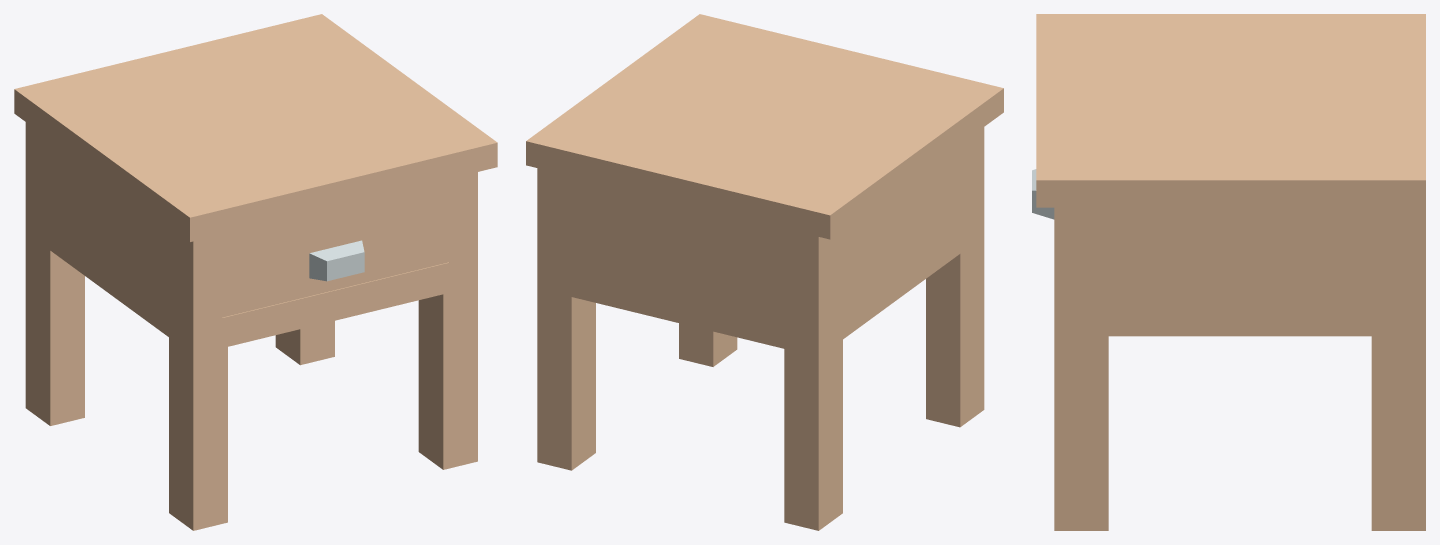
File: kn-cabinet-bed-drawer-table.glb
The picture shows the model from 3 angles, left to right: view 1: azimuth 30°, elevation 25°; view 2: azimuth 150°, elevation 25°; view 3: azimuth 270°, elevation 25°; orthographic projection. The views are drawn at different scales.
Parts seen in each view (by area): view 1: cabinetBedDrawerTable(Clone), drawer; view 2: cabinetBedDrawerTable(Clone); view 3: cabinetBedDrawerTable(Clone).
Part boxes in pixels (box(x1,y1,x2,y2)): cabinetBedDrawerTable(Clone): box(14, 14, 497, 530); drawer: box(309, 240, 364, 281); cabinetBedDrawerTable(Clone): box(526, 14, 1003, 530); cabinetBedDrawerTable(Clone): box(1036, 14, 1425, 530).
Size of the model in its own units: 1 by 1 by 1.
